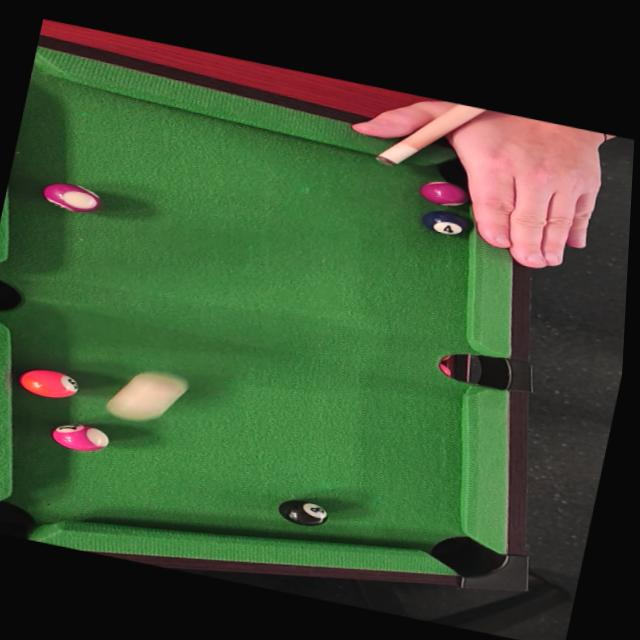cue ball: (101, 359, 199, 435)
other: (40, 413, 120, 458), (8, 362, 84, 408), (37, 176, 110, 219), (412, 202, 481, 243), (414, 174, 476, 212), (277, 495, 337, 534)
